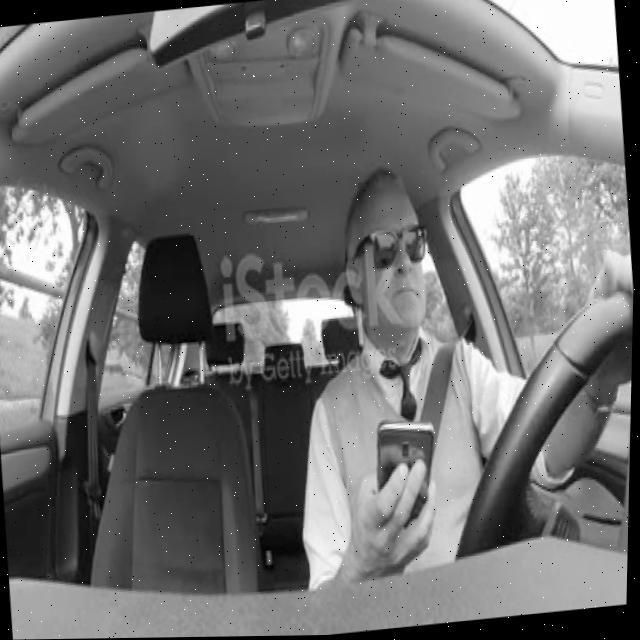PhoneCall: (376, 420, 446, 554)
